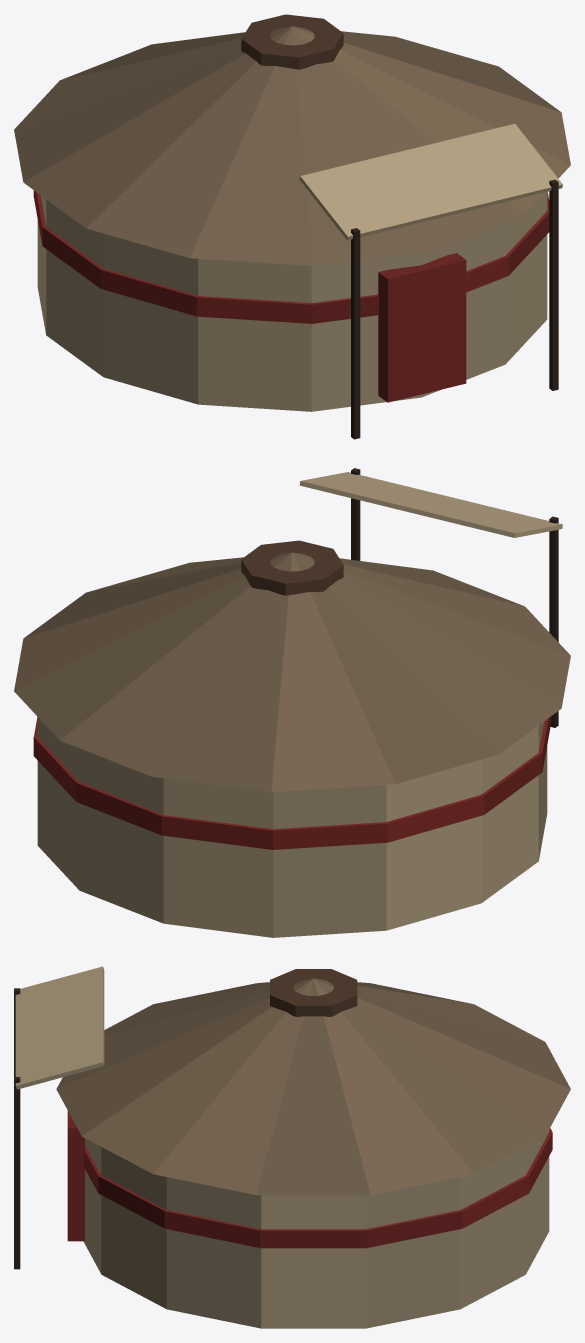
Rendered from steppe_yurt.glb.
The picture shows the model from 3 angles, top to bottom: view 1: azimuth 30°, elevation 25°; view 2: azimuth 150°, elevation 25°; view 3: azimuth 270°, elevation 25°; orthographic projection. The views are drawn at different scales.
Parts seen in each view (by area): view 1: steppe_yurt; view 2: steppe_yurt; view 3: steppe_yurt.
Part boxes in pixels (<box>): steppe_yurt: <box>14,14,570,439</box>; steppe_yurt: <box>14,468,570,937</box>; steppe_yurt: <box>14,966,570,1328</box>.
Bounding box in the file's own units: 5.75 × 3.2 × 6.39.
Materials: 1 (1 with a texture image).
